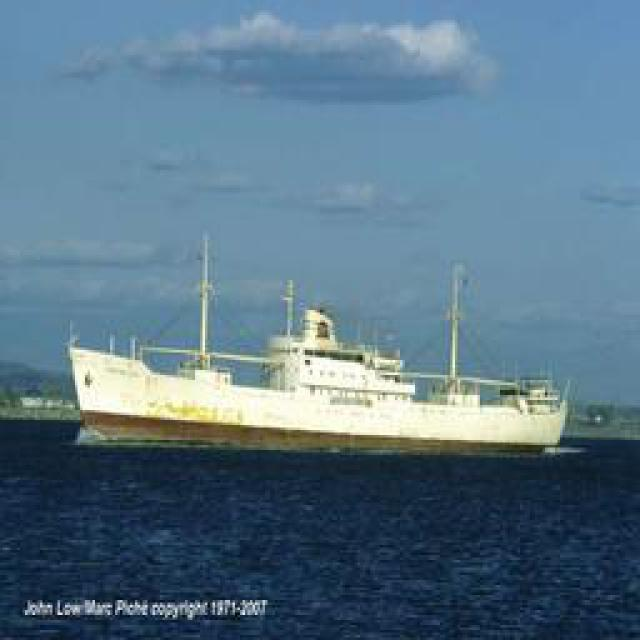Ship: (71, 270, 574, 455)
